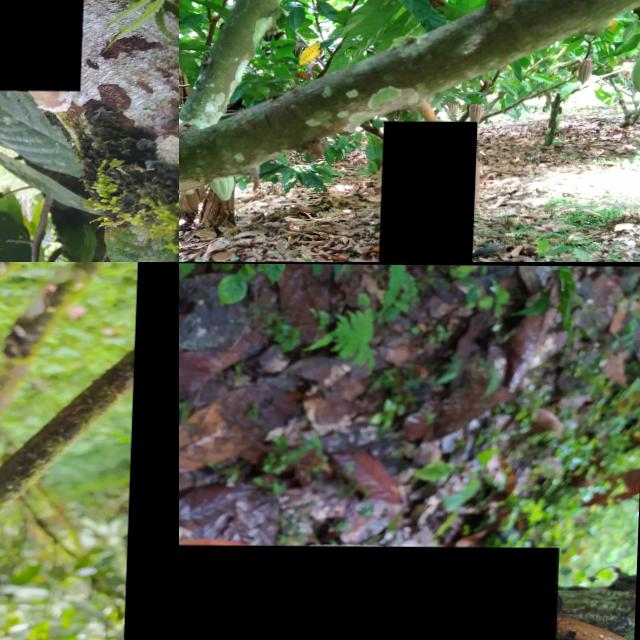Fitoftora: (127, 262, 179, 640), (380, 120, 479, 262)
Monilia: (179, 544, 561, 640)
